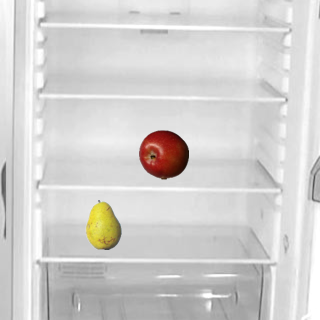Apple Braeburn: (138, 129, 188, 179)
Pear Monster: (78, 199, 128, 249)
